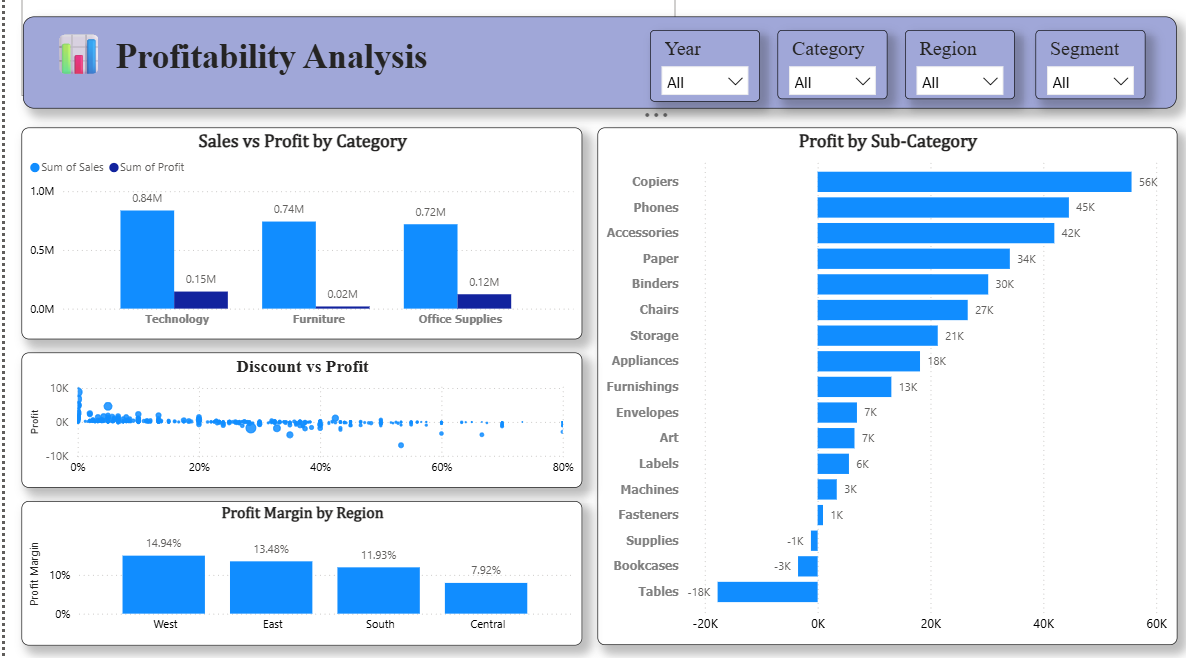

What the dashboard file says about the page in this screenshot:
{"tool":"powerbi","page":{"name":"Page 2","canvas":[1280,720],"ordinal":1},"visuals":[{"type":"textbox","box":[17.8,0,706,113.3],"z":0},{"type":"textbox","box":[19.3,27.6,1245,99],"z":1000},{"type":"slicer","fields":{"Values":["retail sales.Year"]},"box":[697,41.4,118.6,77.2],"z":2000},{"type":"slicer","fields":{"Values":["retail sales.Region"]},"box":[971,41.4,118.6,74.5],"z":3000},{"type":"slicer","fields":{"Values":["retail sales.Category"]},"box":[833.1,41.4,118.6,74.5],"z":4000},{"type":"clusteredColumnChart","title":"Sales vs Profit by Category","fields":{"Y":["Sum(retail sales.Sales)","Sum(retail sales.Profit)"],"Category":["retail sales.Category"]},"box":[18.2,147.8,605.6,228.9],"z":5000},{"type":"clusteredBarChart","title":"Profit by Sub-Category","fields":{"Y":["Sum(retail sales.Profit)"],"Category":["retail sales.Sub-Category"]},"box":[640,147.8,625.8,559],"z":6000},{"type":"scatterChart","title":"Discount vs Profit","fields":{"X":["Avg(retail sales.Discount)"],"Y":["Sum(retail sales.Profit)"],"Size":["Sum(retail sales.Sales)"],"Category":["retail sales.Order ID"]},"box":[18.2,390.9,605.6,145.8],"z":7000},{"type":"clusteredColumnChart","fields":{"Y":["retail sales.Profit Margin"],"Category":["retail sales.Region"]},"box":[18.2,550.9,605.6,155.9],"z":8000},{"type":"slicer","fields":{"Values":["retail sales.Segment"]},"box":[1111.7,41.4,118.6,74.5],"z":9000}]}

Visuals, with their boxes in screenshot pixels (x1, y1, x2, y2), scaled from the page's 1280x720 canvas onto the 1186x658 screenshot:
textbox: bbox(16, 0, 671, 104)
textbox: bbox(18, 25, 1171, 116)
slicer - retail sales.Year: bbox(646, 38, 756, 108)
slicer - retail sales.Region: bbox(900, 38, 1010, 106)
slicer - retail sales.Category: bbox(772, 38, 882, 106)
"Sales vs Profit by Category" clusteredColumnChart: bbox(17, 135, 578, 344)
"Profit by Sub-Category" clusteredBarChart: bbox(593, 135, 1173, 646)
"Discount vs Profit" scatterChart: bbox(17, 357, 578, 490)
clusteredColumnChart - retail sales.Profit Margin x retail sales.Region: bbox(17, 503, 578, 646)
slicer - retail sales.Segment: bbox(1030, 38, 1140, 106)
